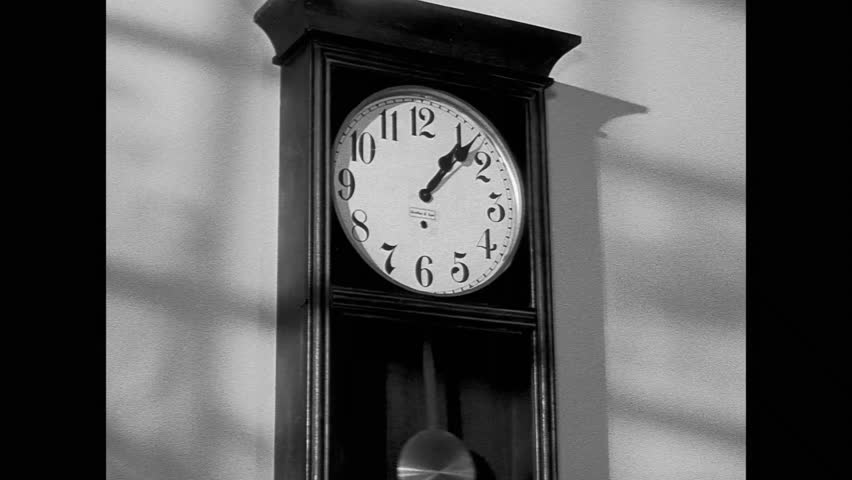clock: (333, 86, 527, 299)
